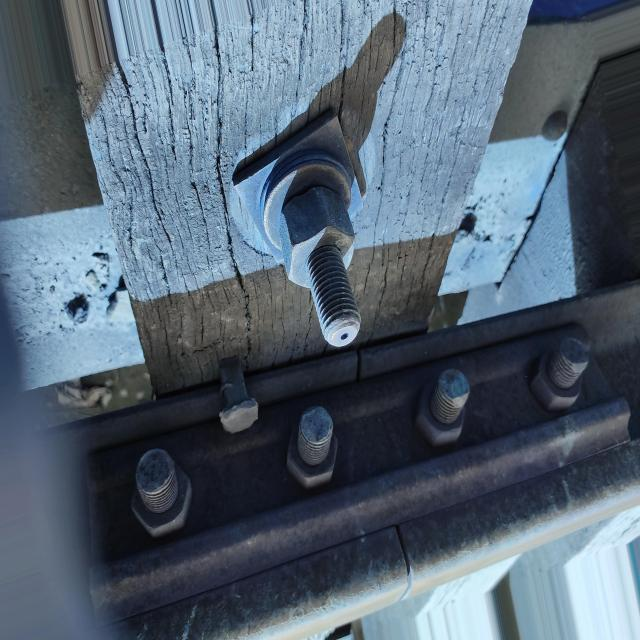Good Fasteners: (233, 109, 362, 345)
Good Joint: (82, 326, 633, 622)
